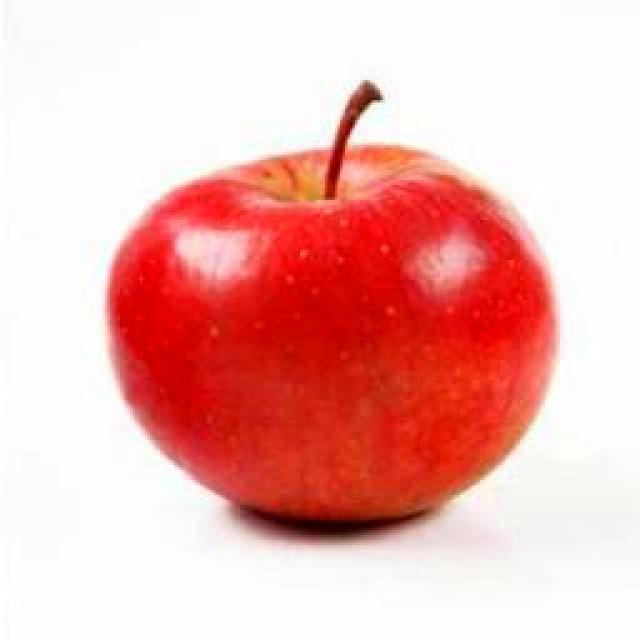Apple: (109, 82, 554, 521)
